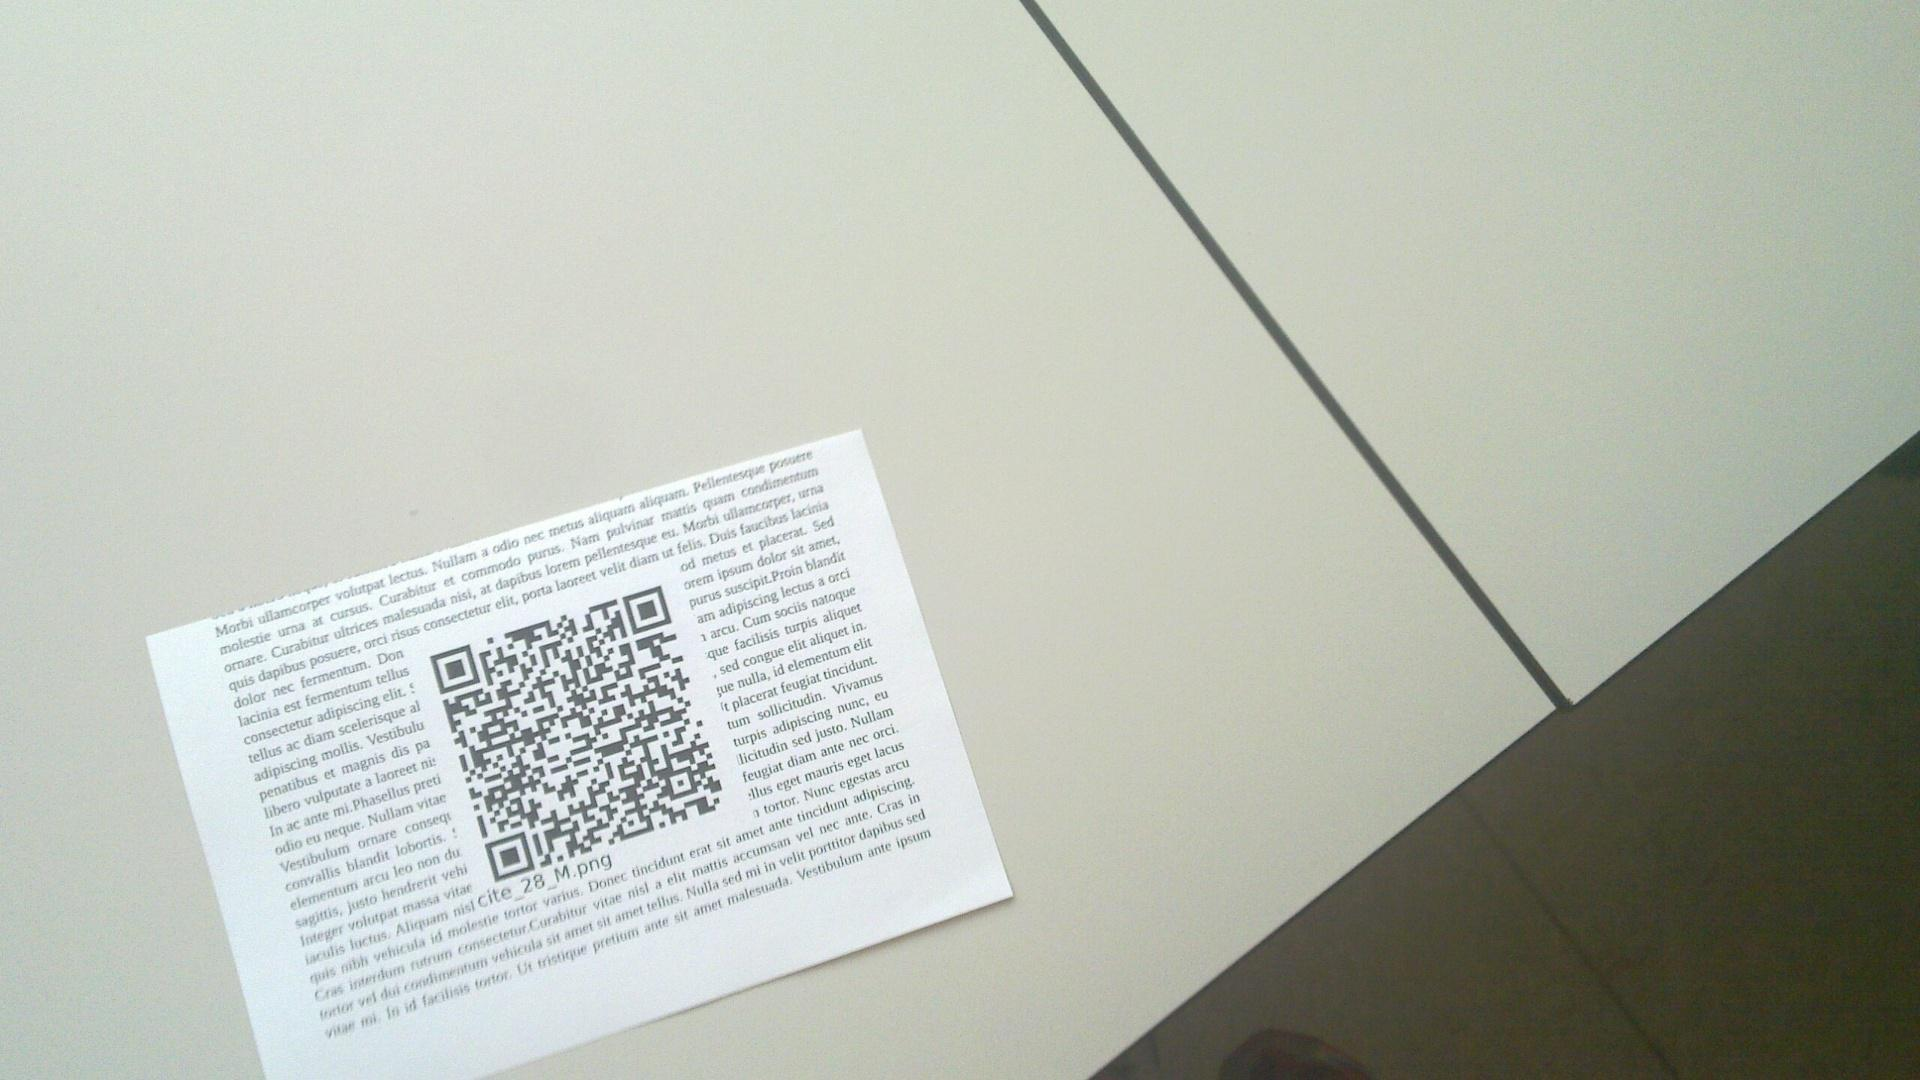Finder pattern: (477, 828, 534, 882), (620, 584, 675, 636), (425, 644, 481, 694)
